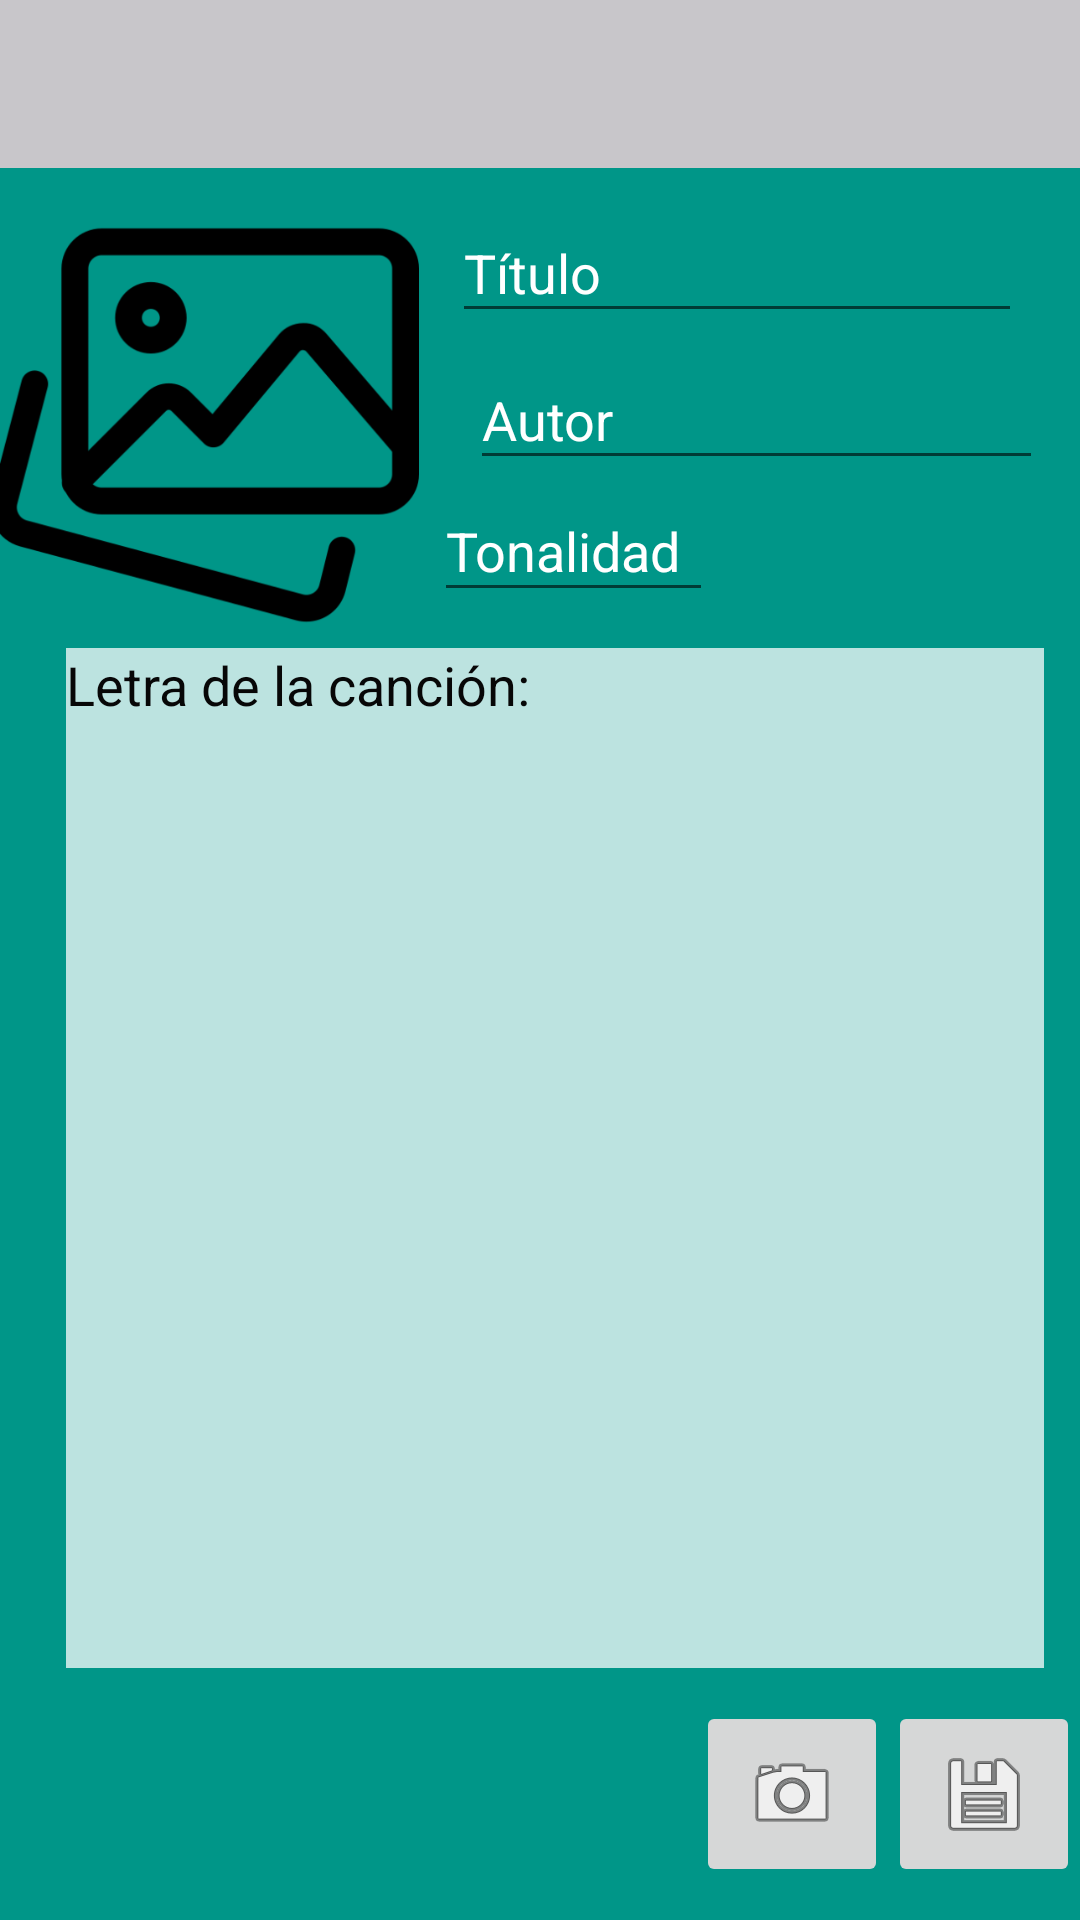

Named icons in this screenshot (1080 x 1920) and their centers, [x,y]:
camera: [792,1794]
save: [984,1794]
